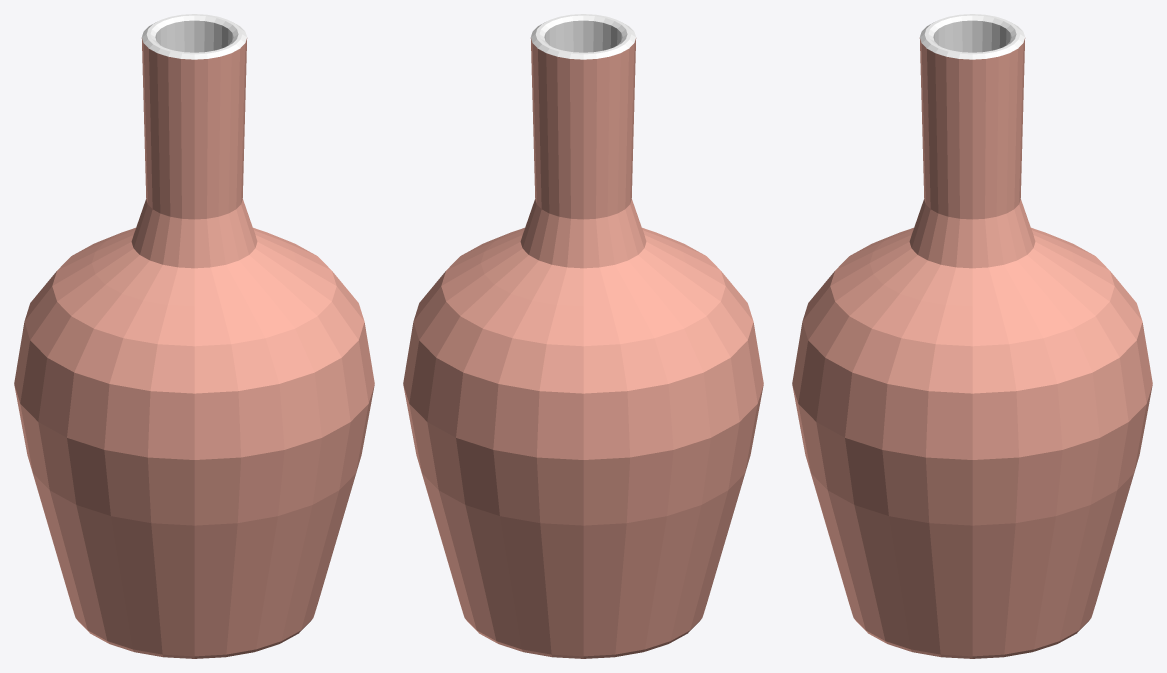
File: e1843969-199a-44d9-9dae-8562e824ff02.glb
The picture shows the model from 3 angles, left to right: view 1: azimuth 30°, elevation 25°; view 2: azimuth 150°, elevation 25°; view 3: azimuth 270°, elevation 25°; orthographic projection.
Parts seen in each view (by area): view 1: Vase; view 2: Vase; view 3: Vase.
Boxes of the visible parts, x1=… form: Vase: x1=14, y1=14, x2=374, y2=658; Vase: x1=403, y1=14, x2=763, y2=658; Vase: x1=792, y1=14, x2=1152, y2=658.
Bounding box in the file's own units: 45.42 × 79.95 × 45.42.
Materials: 1 (1 with a texture image).
